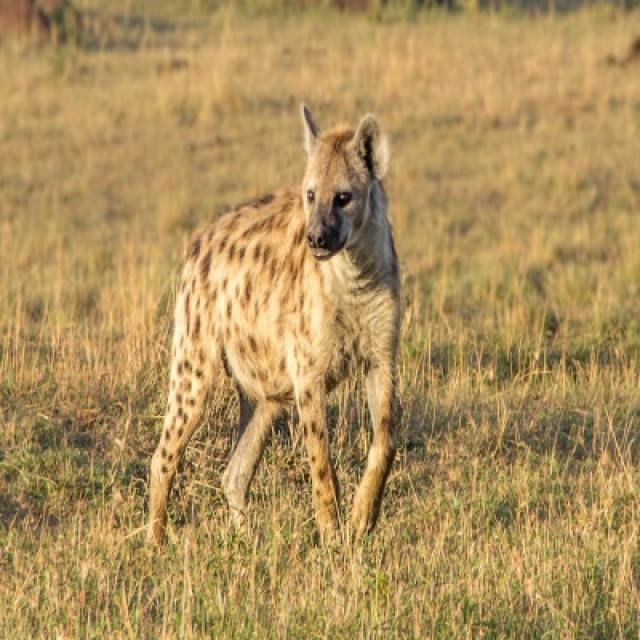hyena: (146, 110, 402, 547)
